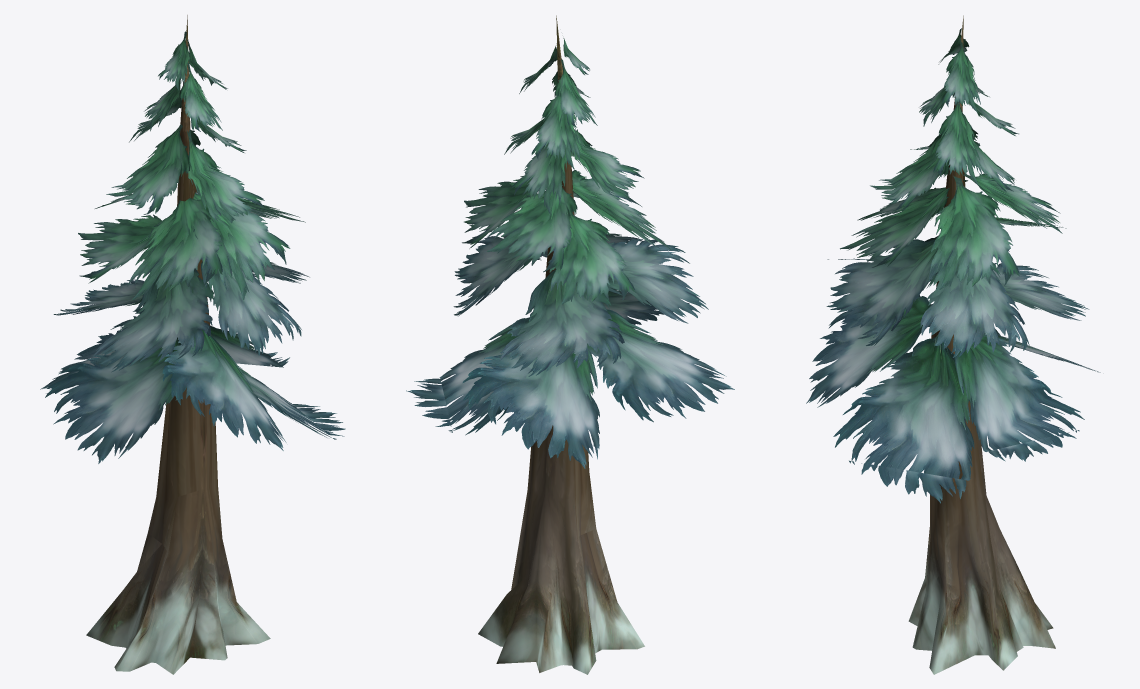
File: GD_tree_01.FBX
3 renders of one model, left to right at view 1: azimuth 30°, elevation 25°; view 2: azimuth 150°, elevation 25°; view 3: azimuth 270°, elevation 25°, orthographic.
Parts seen in each view (by area): view 1: GD_tree_01; view 2: GD_tree_01; view 3: GD_tree_01.
Part boxes in pixels (bbox=[...]): GD_tree_01: bbox=[40, 15, 345, 674]; GD_tree_01: bbox=[406, 15, 734, 674]; GD_tree_01: bbox=[806, 15, 1100, 674].
Bounding box in the file's own units: 4.27 × 8.24 × 4.
